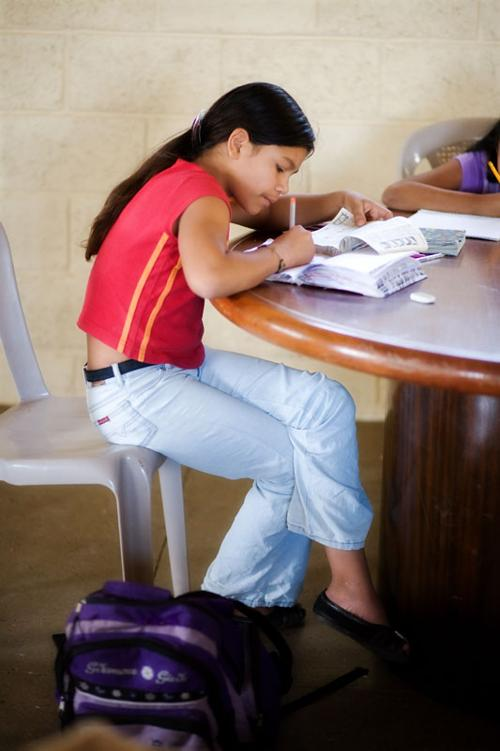person: (81, 83, 416, 664)
